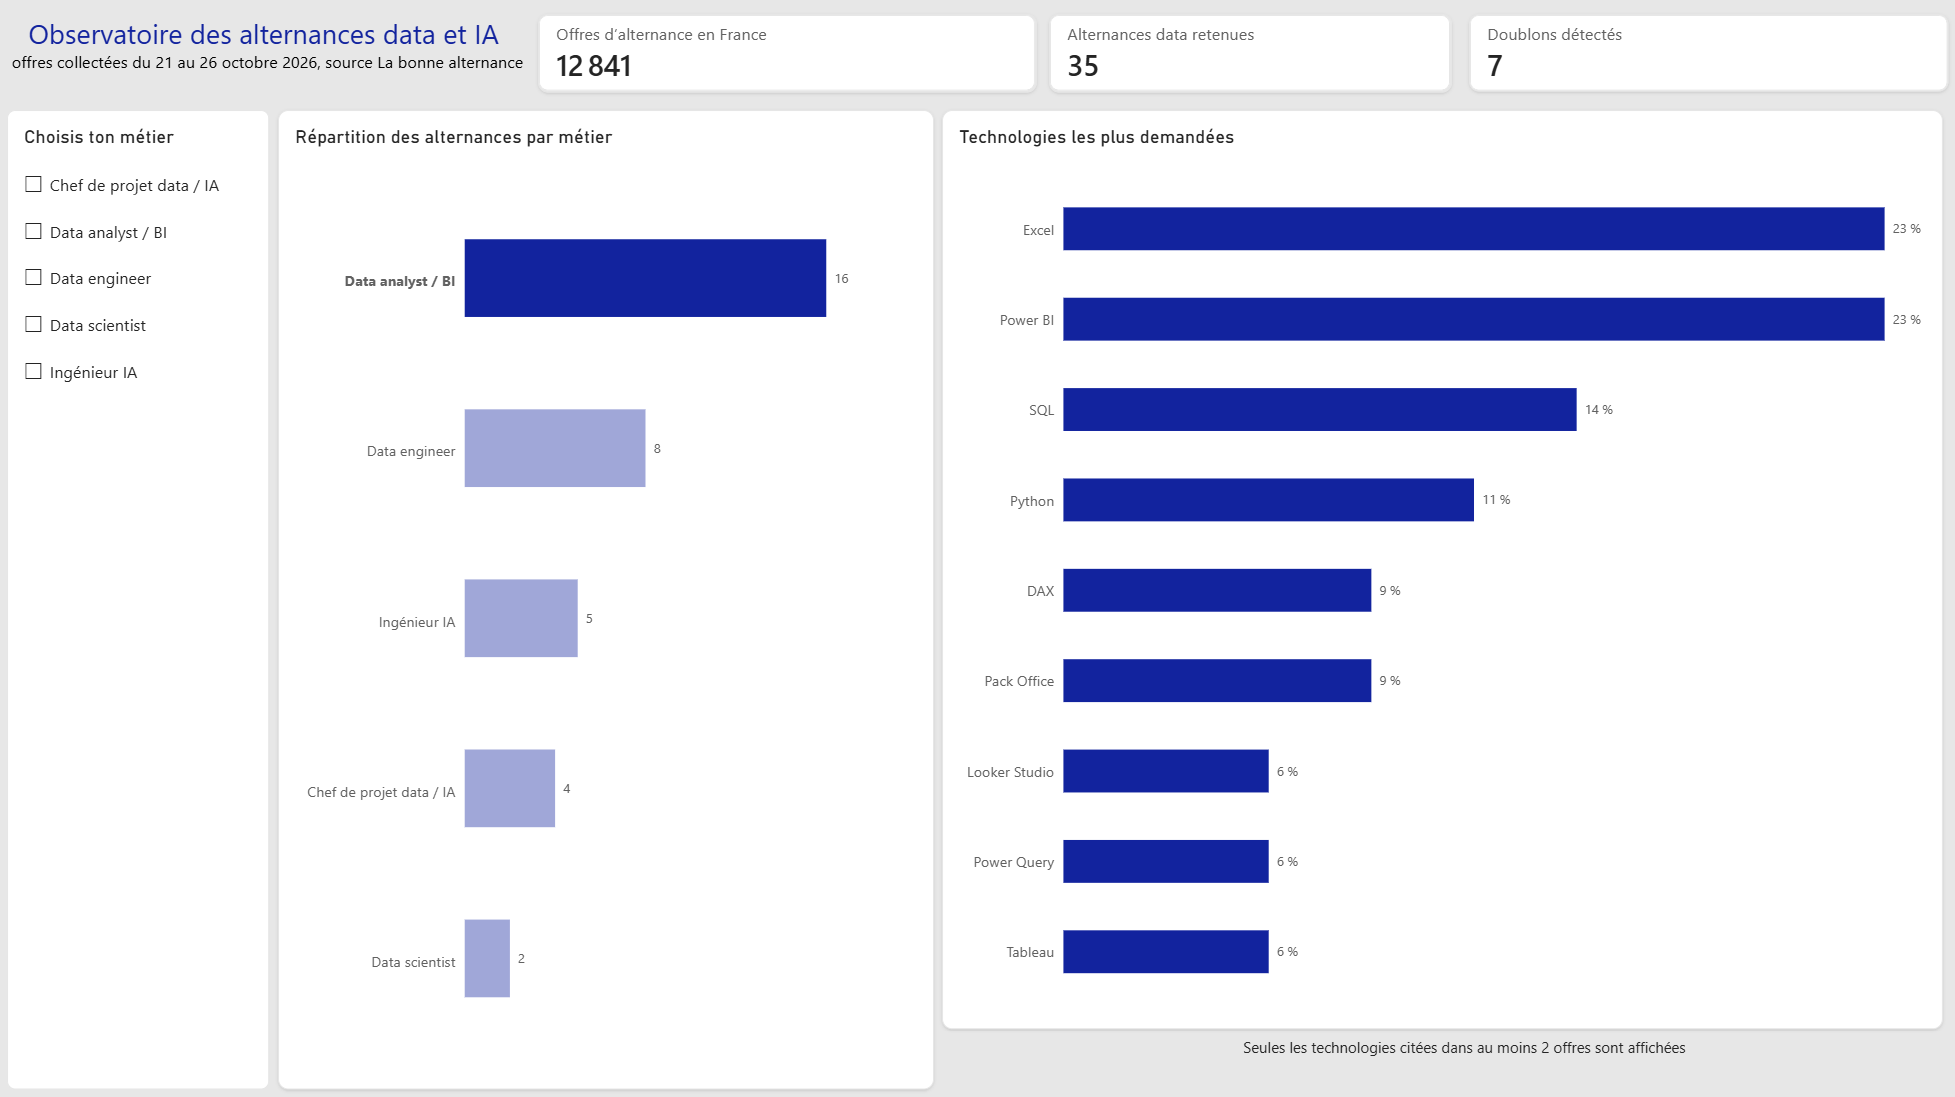

What the dashboard file says about the page in this screenshot:
{"tool":"powerbi","page":{"name":"Page 1","canvas":[1920,1080],"ordinal":0},"visuals":[{"type":"clusteredBarChart","title":"Répartition des alternances par métier","fields":{"Category":["offres.metier"],"Y":["offres.Alternances data retenues"]},"box":[272.5,109.8,642.9,960.5],"z":0},{"type":"clusteredBarChart","title":"Technologies les plus demandées","fields":{"Category":["offres_technologies.technologie"],"Y":["offres.% des offres"]},"box":[923.2,109.8,981.1,900.7],"z":1000},{"type":"textbox","box":[6.9,15.7,510.6,76.4],"z":2000},{"type":"cardVisual","fields":{"Data":["offres.Nb offres"]},"box":[1028.1,15.7,394.6,76.6],"z":2000,"group":"g1"},{"type":"cardVisual","fields":{"Data":["offres.Doublons détectés"]},"box":[1439.8,15.7,470.4,76.4],"z":3000,"group":"g1"},{"type":"listSlicer","title":"Choisis ton métier","fields":{"Values":["offres.metier"]},"box":[6.9,109.8,256.8,960.5],"z":3000},{"type":"cardVisual","fields":{"Data":["offres.Offres du marché"]},"box":[527.3,15.7,488.8,76.6],"z":4000,"group":"g1"},{"type":"textbox","box":[1206.5,1018.3,457.7,60.8],"z":4000},{"type":"group","id":"g1","title":"Groupe 1","box":[527.3,15.7,1382.9,76.4],"z":5000}]}

Visuals, with their boxes in screenshot pixels (x1, y1, x2, y2), scaled from the page's 1920x1080 canvas onto the 1955x1097 screenshot:
"Répartition des alternances par métier" clusteredBarChart: Rect(277, 112, 932, 1087)
"Technologies les plus demandées" clusteredBarChart: Rect(940, 112, 1939, 1026)
textbox: Rect(7, 16, 527, 94)
cardVisual - offres.Nb offres: Rect(1047, 16, 1449, 94)
cardVisual - offres.Doublons détectés: Rect(1466, 16, 1945, 94)
"Choisis ton métier" listSlicer: Rect(7, 112, 269, 1087)
cardVisual - offres.Offres du marché: Rect(537, 16, 1035, 94)
textbox: Rect(1228, 1034, 1695, 1096)
"Groupe 1" group: Rect(537, 16, 1945, 94)
